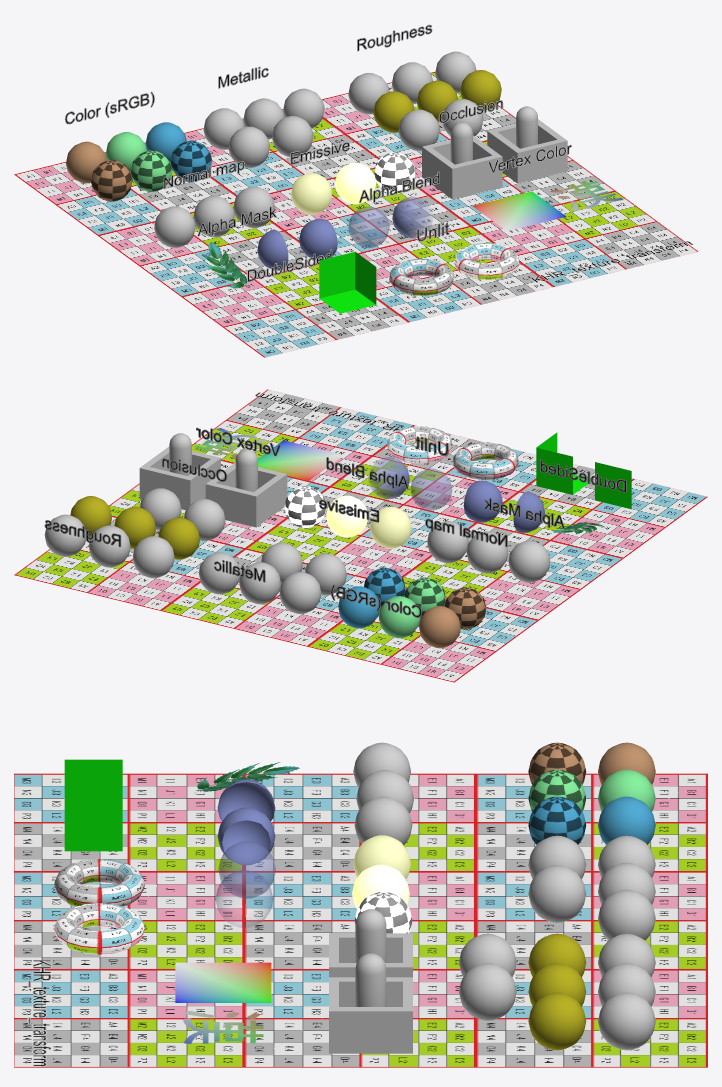
The model's file is PBRMaterial.glb.
3 renders of one model, top to bottom at view 1: azimuth 30°, elevation 25°; view 2: azimuth 150°, elevation 25°; view 3: azimuth 270°, elevation 25°, orthographic. The views are drawn at different scales.
Visible parts, largest first — view 1: ground (×2), sphere (×15), sphere_tex (×14), Occlusion (×3), ポリゴンメッシュ (×3), torus (×2), leaf, Color(sRGB), KHR_texture_transform, Double Sided, AlphaBlend, AlphaMask (+3 smaller); view 2: ground (×2), sphere (×15), sphere_tex (×14), Occlusion (×3), ポリゴンメッシュ (×4), torus (×2), Color(sRGB), Double Sided, AlphaBlend, AlphaMask, Normal map, KHR_texture_transform (+4 smaller); view 3: ground (×2), sphere (×15), sphere_tex (×14), Occlusion (×2), ポリゴンメッシュ (×4), torus (×2), KHR_texture_transform, leaf.
Part boxes in pixels (bbox=[...]): ground (×2): bbox=[14, 71, 698, 357]; sphere (×15): bbox=[66, 51, 501, 248]; sphere_tex (×14): bbox=[91, 99, 483, 270]; Occlusion (×3): bbox=[422, 100, 567, 199]; ポリゴンメッシュ (×3): bbox=[319, 181, 622, 313]; torus (×2): bbox=[389, 243, 519, 295]; leaf: bbox=[202, 242, 250, 288]; Color(sRGB): bbox=[64, 91, 154, 124]; KHR_texture_transform: bbox=[530, 241, 693, 282]; Double Sided: bbox=[247, 249, 332, 282]; AlphaBlend: bbox=[358, 171, 439, 203]; AlphaMask: bbox=[197, 206, 276, 236]; ground (×2): bbox=[14, 389, 707, 682]; sphere (×15): bbox=[44, 468, 460, 648]; sphere_tex (×14): bbox=[140, 457, 550, 629]; Occlusion (×3): bbox=[139, 433, 287, 527]; ポリゴンメッシュ (×4): bbox=[195, 428, 631, 509]; torus (×2): bbox=[387, 426, 518, 479]; Color(sRGB): bbox=[330, 584, 421, 617]; Double Sided: bbox=[540, 459, 626, 492]; AlphaBlend: bbox=[326, 457, 408, 489]; AlphaMask: bbox=[484, 498, 564, 528]; Normal map: bbox=[425, 518, 507, 547]; KHR_texture_transform: bbox=[255, 392, 400, 431]; ground (×2): bbox=[14, 773, 707, 1067]; sphere (×15): bbox=[218, 742, 655, 1050]; sphere_tex (×14): bbox=[215, 742, 586, 1020]; Occlusion (×2): bbox=[329, 909, 412, 1053]; ポリゴンメッシュ (×4): bbox=[64, 759, 271, 1043]; torus (×2): bbox=[54, 859, 144, 954]; KHR_texture_transform: bbox=[27, 960, 51, 1066]; leaf: bbox=[194, 762, 299, 793].
Bounding box in the file's own units: 0.6158 × 0.0859 × 0.5988.
Materials: 40 (12 with a texture image).
